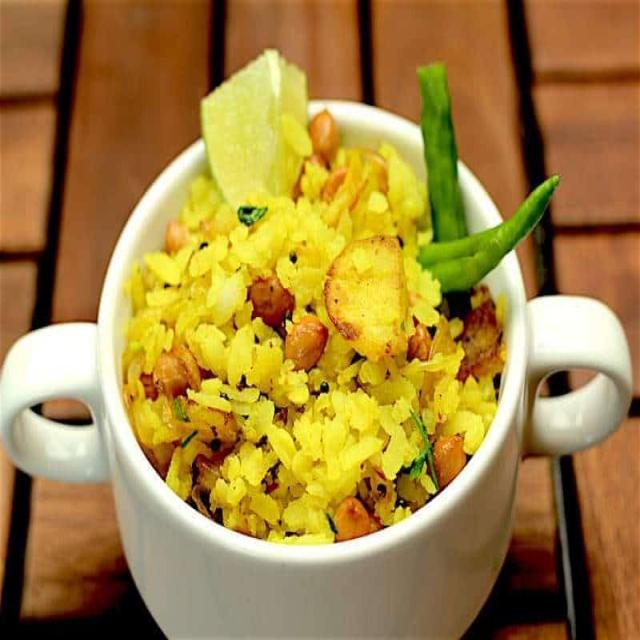UPMA: (121, 82, 506, 542)
